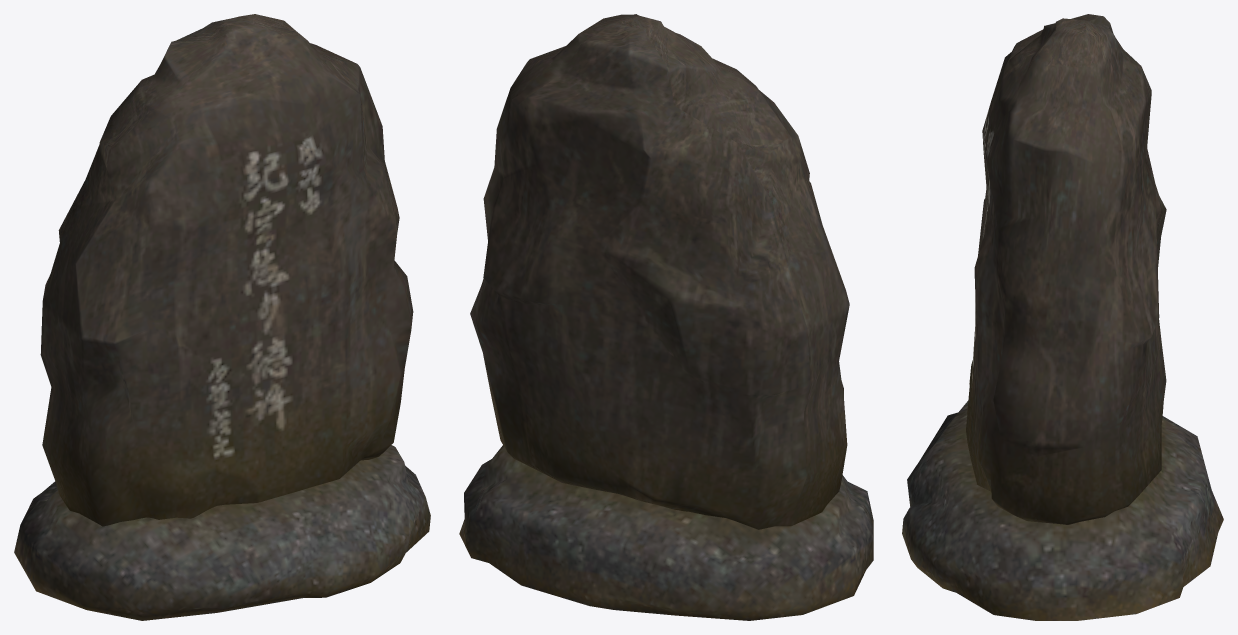
The model's file is monument-rock.glb.
3 renders of one model, left to right at view 1: azimuth 30°, elevation 25°; view 2: azimuth 150°, elevation 25°; view 3: azimuth 270°, elevation 25°, orthographic.
Visible parts, largest first — view 1: Scene; view 2: Scene; view 3: Scene.
Boxes of the visible parts, box(x1,y1,x2,y2) form: Scene: box(14, 14, 430, 620); Scene: box(459, 14, 873, 620); Scene: box(902, 14, 1223, 620).
Bounding box in the file's own units: 9.63 × 12.84 × 7.23.
1 material, 1 textured.
